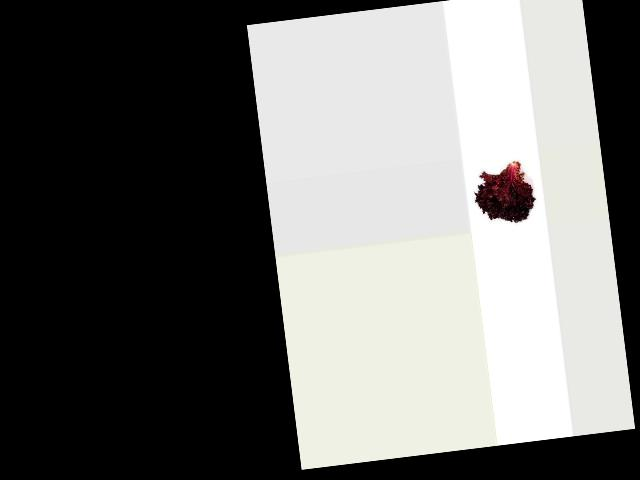lettuce: (468, 153, 535, 230)
